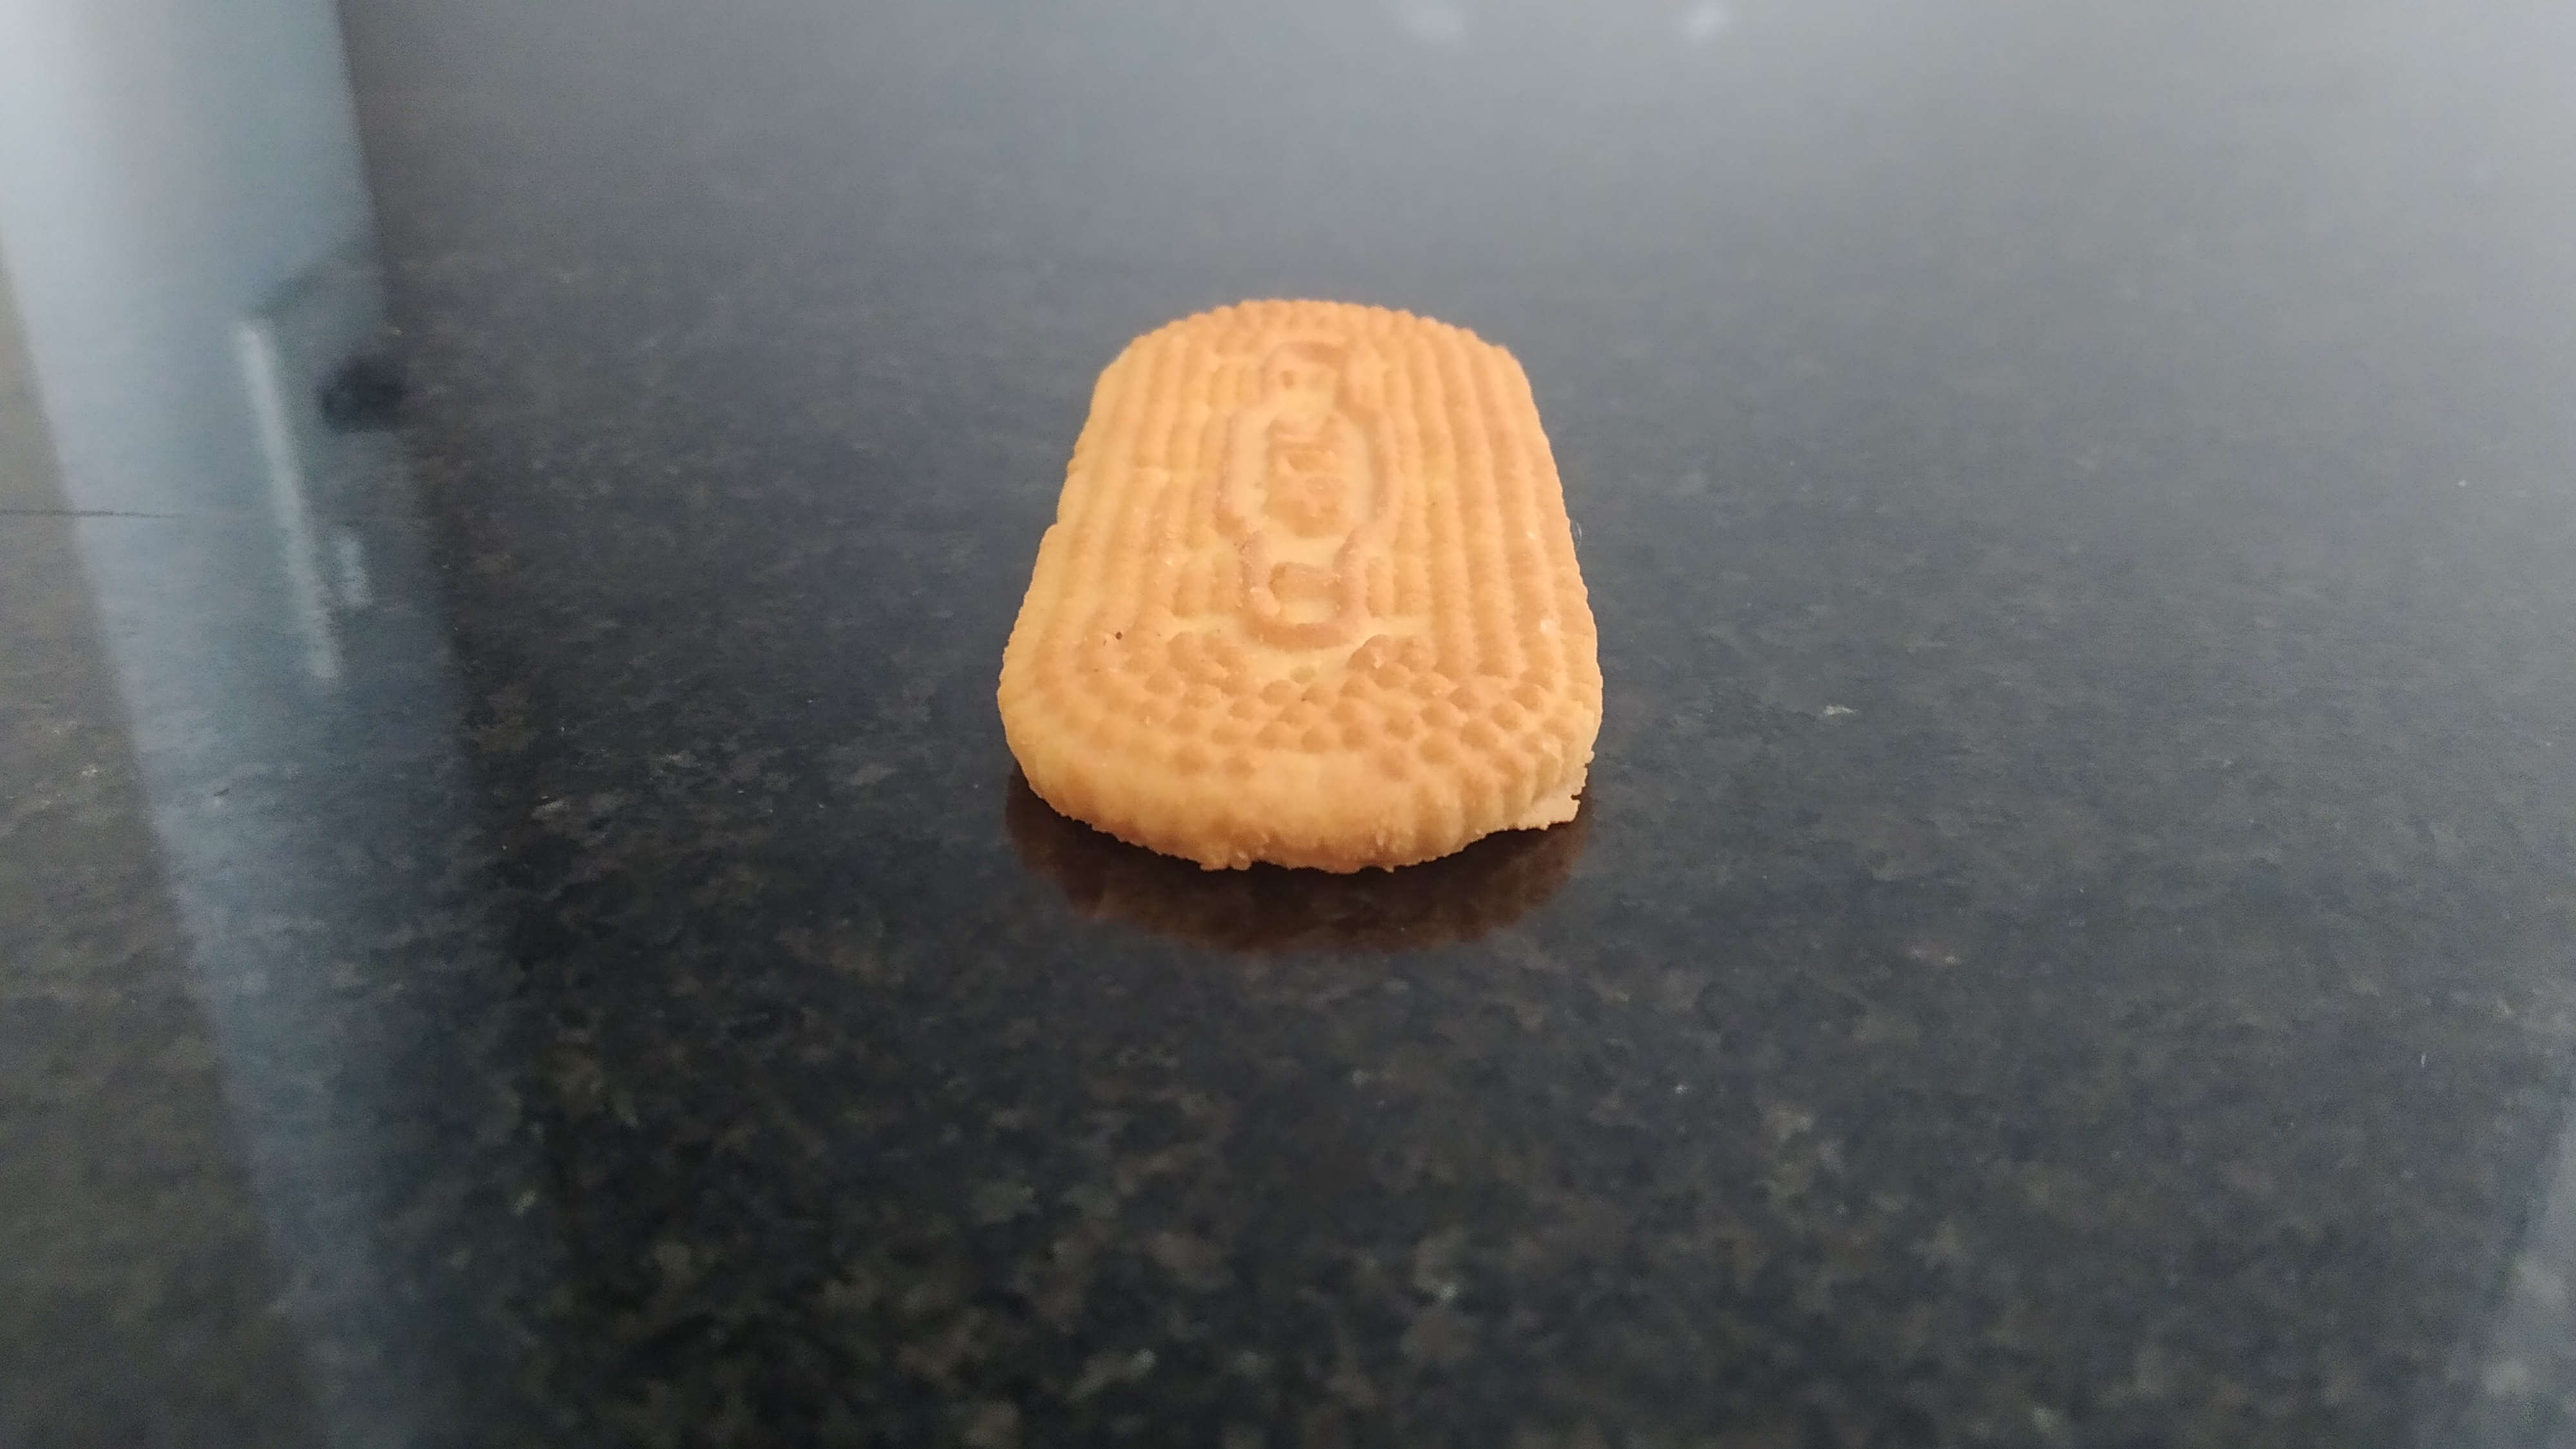solar: (996, 295, 1605, 872)
